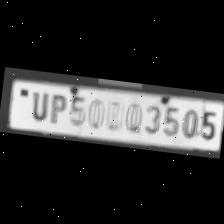0: (84, 93, 108, 129), (120, 96, 144, 132), (176, 104, 200, 138)
3: (140, 100, 164, 134)
5: (195, 106, 220, 140), (64, 91, 88, 126), (158, 100, 181, 136)
P: (45, 90, 69, 124)
U: (24, 87, 50, 121)
